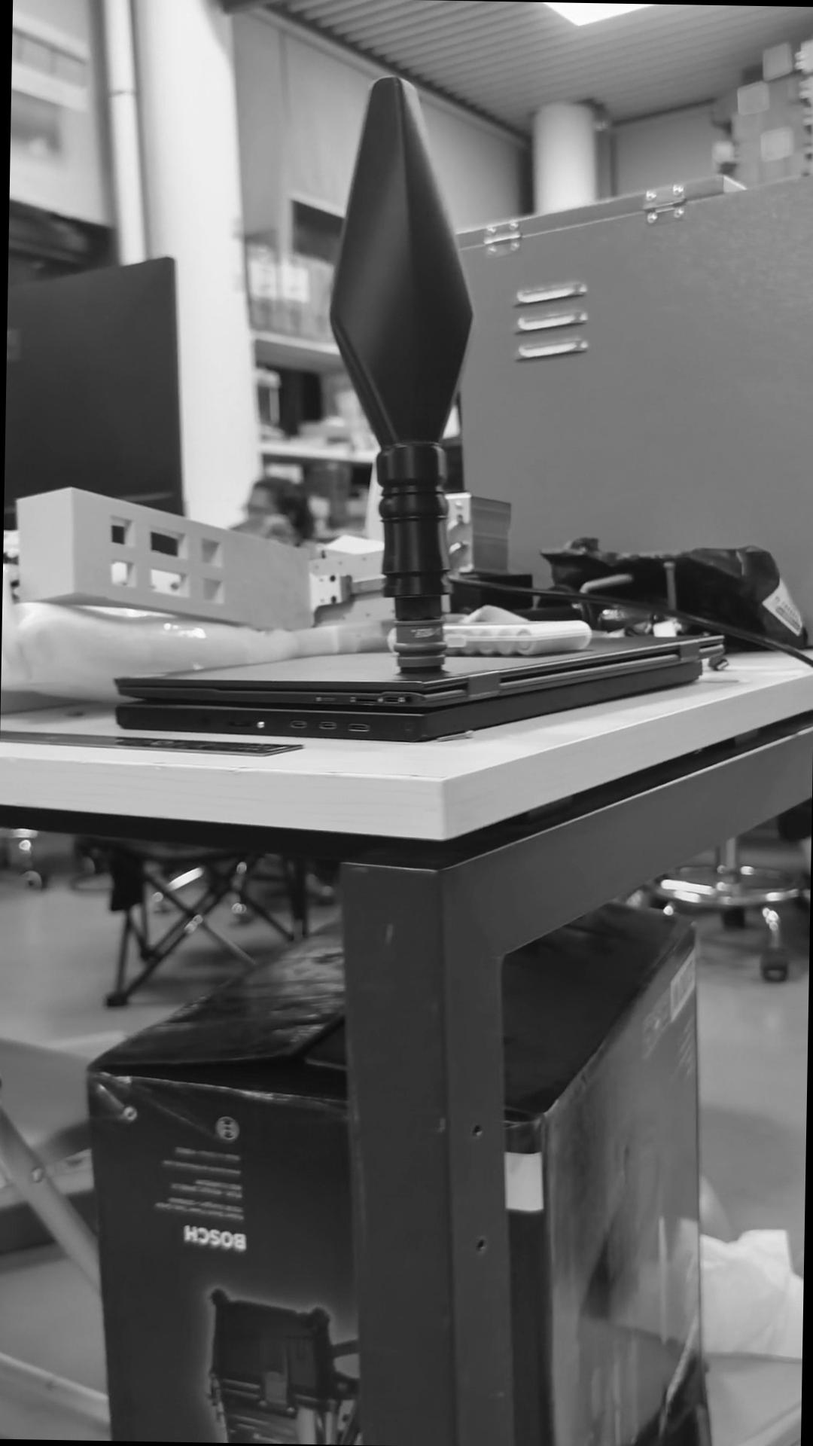base: (384, 610, 453, 692)
